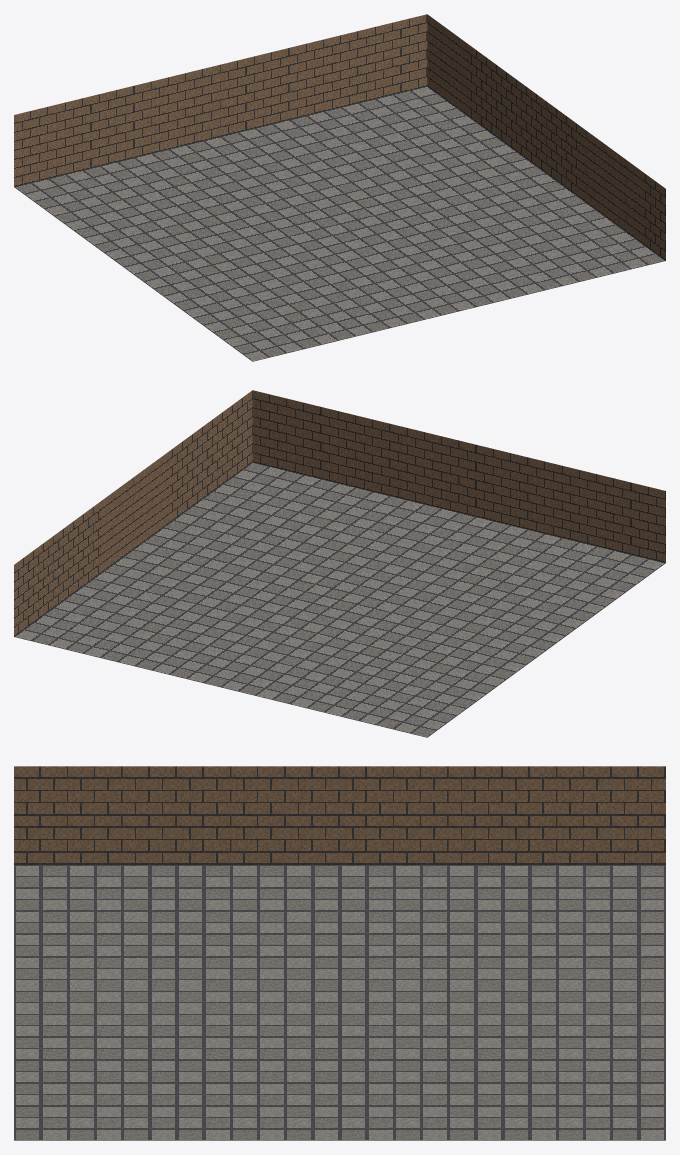
The model's file is arena_scene.gltf.
3 renders of one model, top to bottom at view 1: azimuth 30°, elevation 25°; view 2: azimuth 150°, elevation 25°; view 3: azimuth 270°, elevation 25°, orthographic. The views are drawn at different scales.
Parts seen in each view (by area): view 1: floor, walls; view 2: floor, walls; view 3: floor, walls.
Boxes of the visible parts, box(x1,y1,x2,y2) form: floor: box(14, 86, 665, 361); walls: box(14, 14, 665, 260); floor: box(14, 462, 665, 737); walls: box(14, 390, 665, 636); floor: box(14, 865, 665, 1140); walls: box(14, 766, 665, 864).
Bounding box in the file's own units: 24 × 4 × 24.
2 materials, 2 textured.
